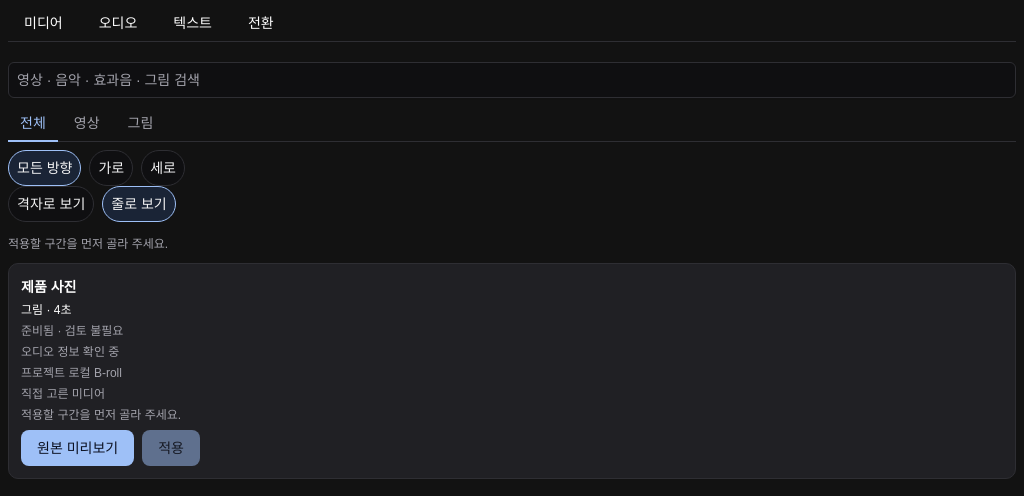
Test: EditorAssetBrowser › explains when no card matches the active filters
In the search field named "미디어 검색": (512, 80) top-left (8, 62), bottom-right (1016, 98), type "없는 미디어"
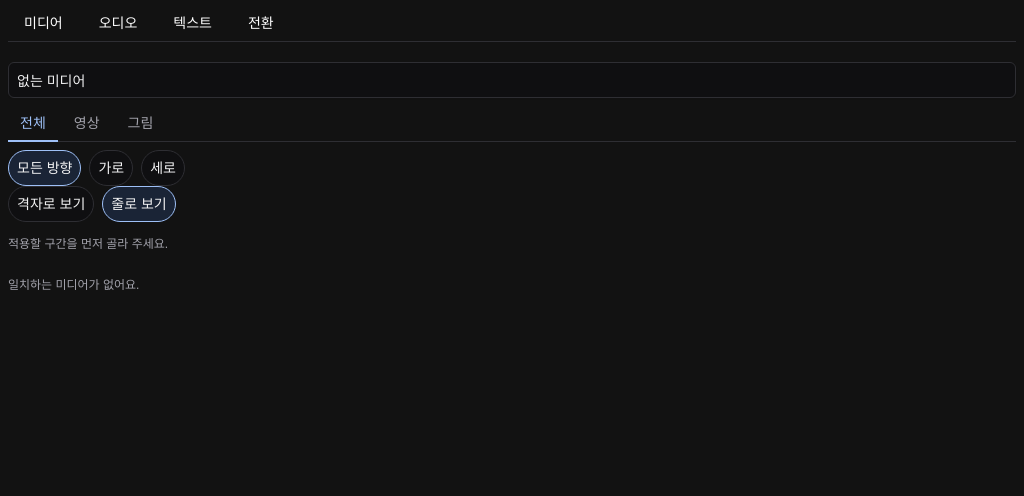
Now the text "일치하는 미디어가 없어요." is shown, box top-left (8, 278), bottom-right (140, 292)
